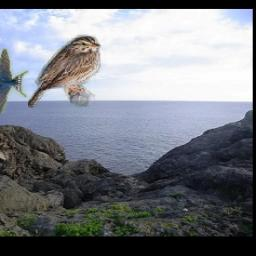Sparrow: (27, 35, 102, 108)
Swallow: (0, 48, 28, 114)
